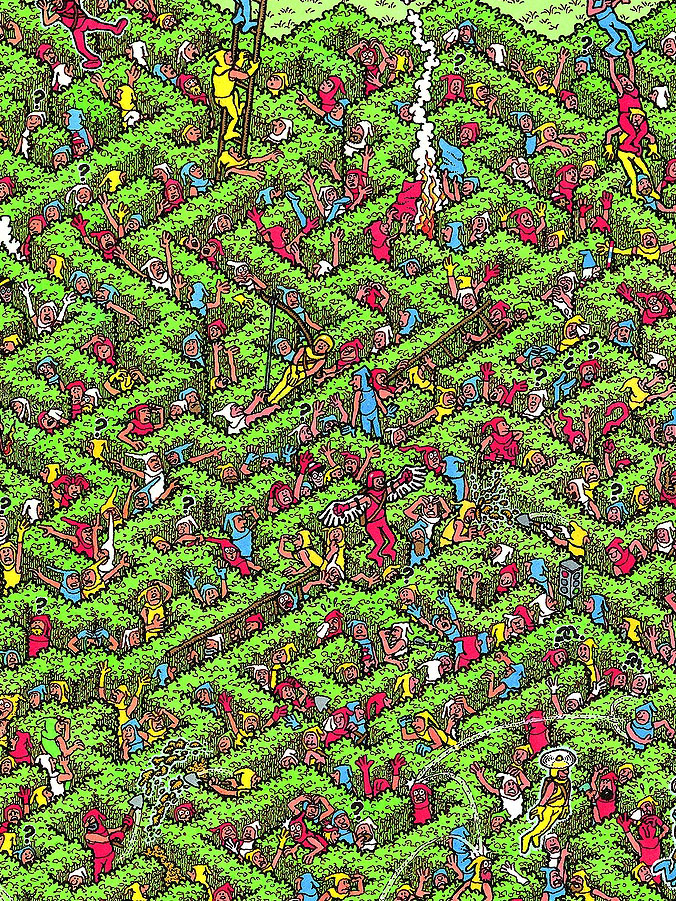waldo: (303, 455, 326, 488)
